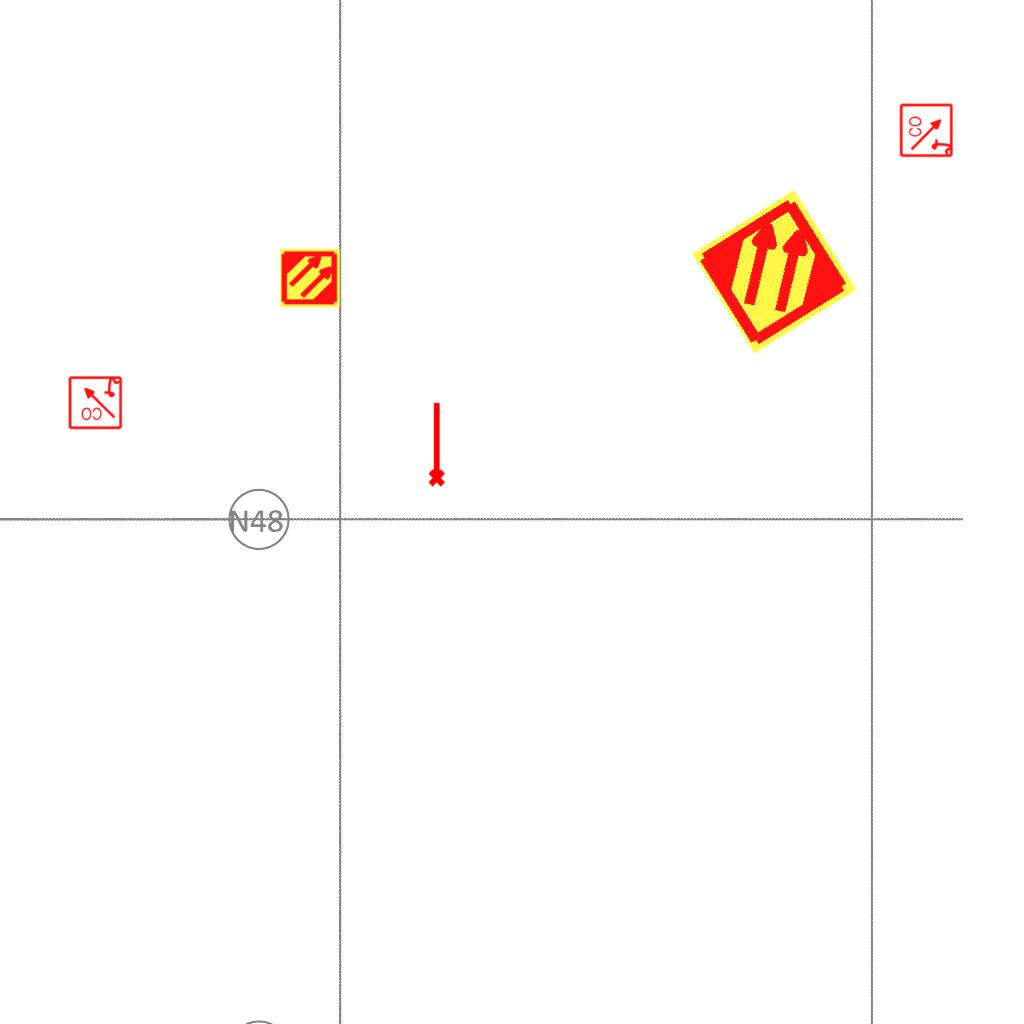ASR_Ansaugoeffnung: (424, 400, 447, 488)
ASR_Ansaugrauchmelder: (688, 185, 861, 358), (279, 247, 341, 309)
ROA_Rauchmelder_optisch_mit_Signalgeber_(Sockelsirene): (899, 102, 955, 158), (67, 374, 123, 430)
